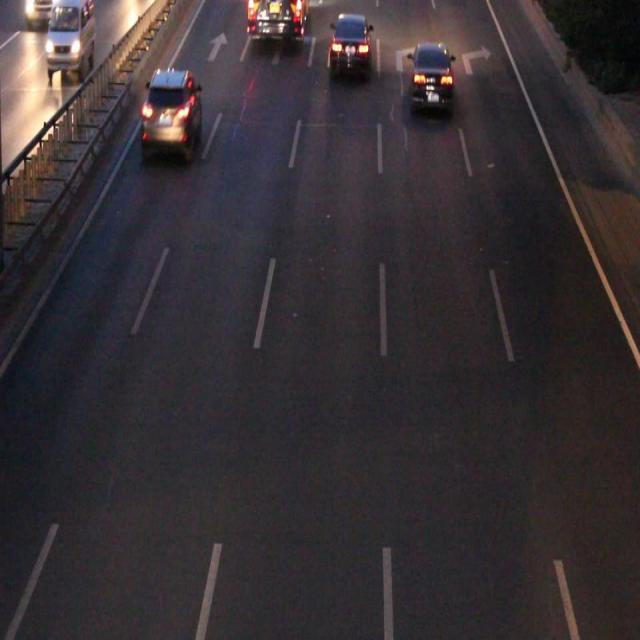car: (143, 72, 200, 150), (409, 45, 452, 113), (328, 15, 369, 72)
van: (247, 1, 307, 40)
